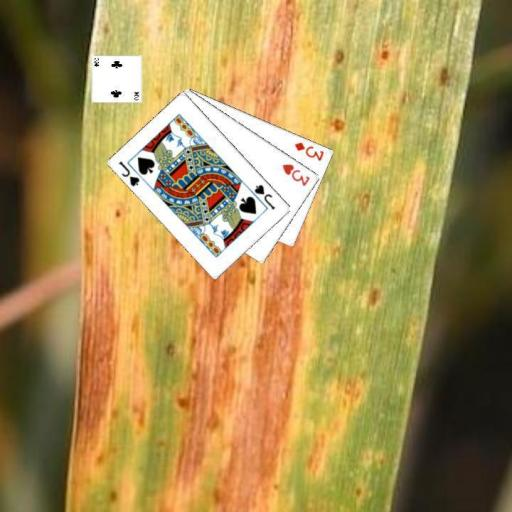card-corner: (280, 160, 312, 188), (292, 139, 326, 163), (251, 182, 277, 212), (116, 158, 141, 188)
